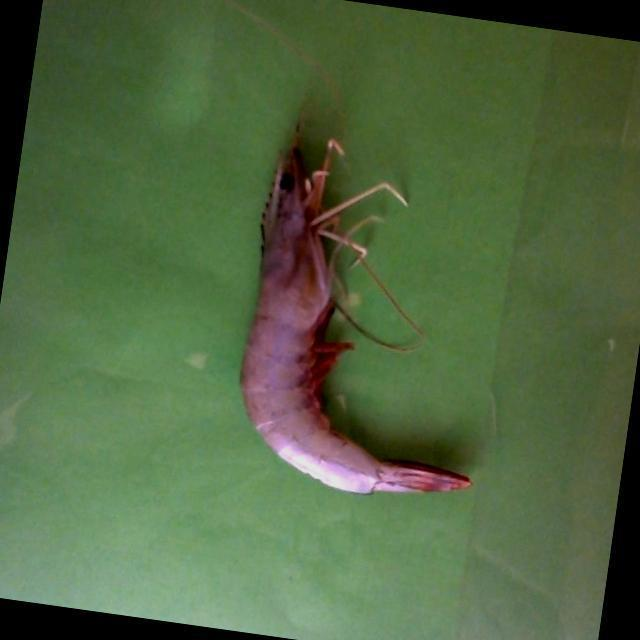shrimp: (241, 148, 468, 495)
